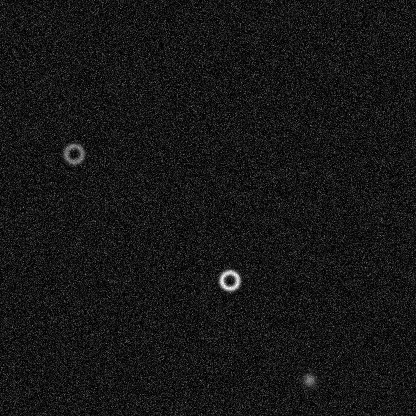Ring: (61, 141, 85, 165), (217, 268, 241, 292)
Spot: (301, 371, 317, 387)
